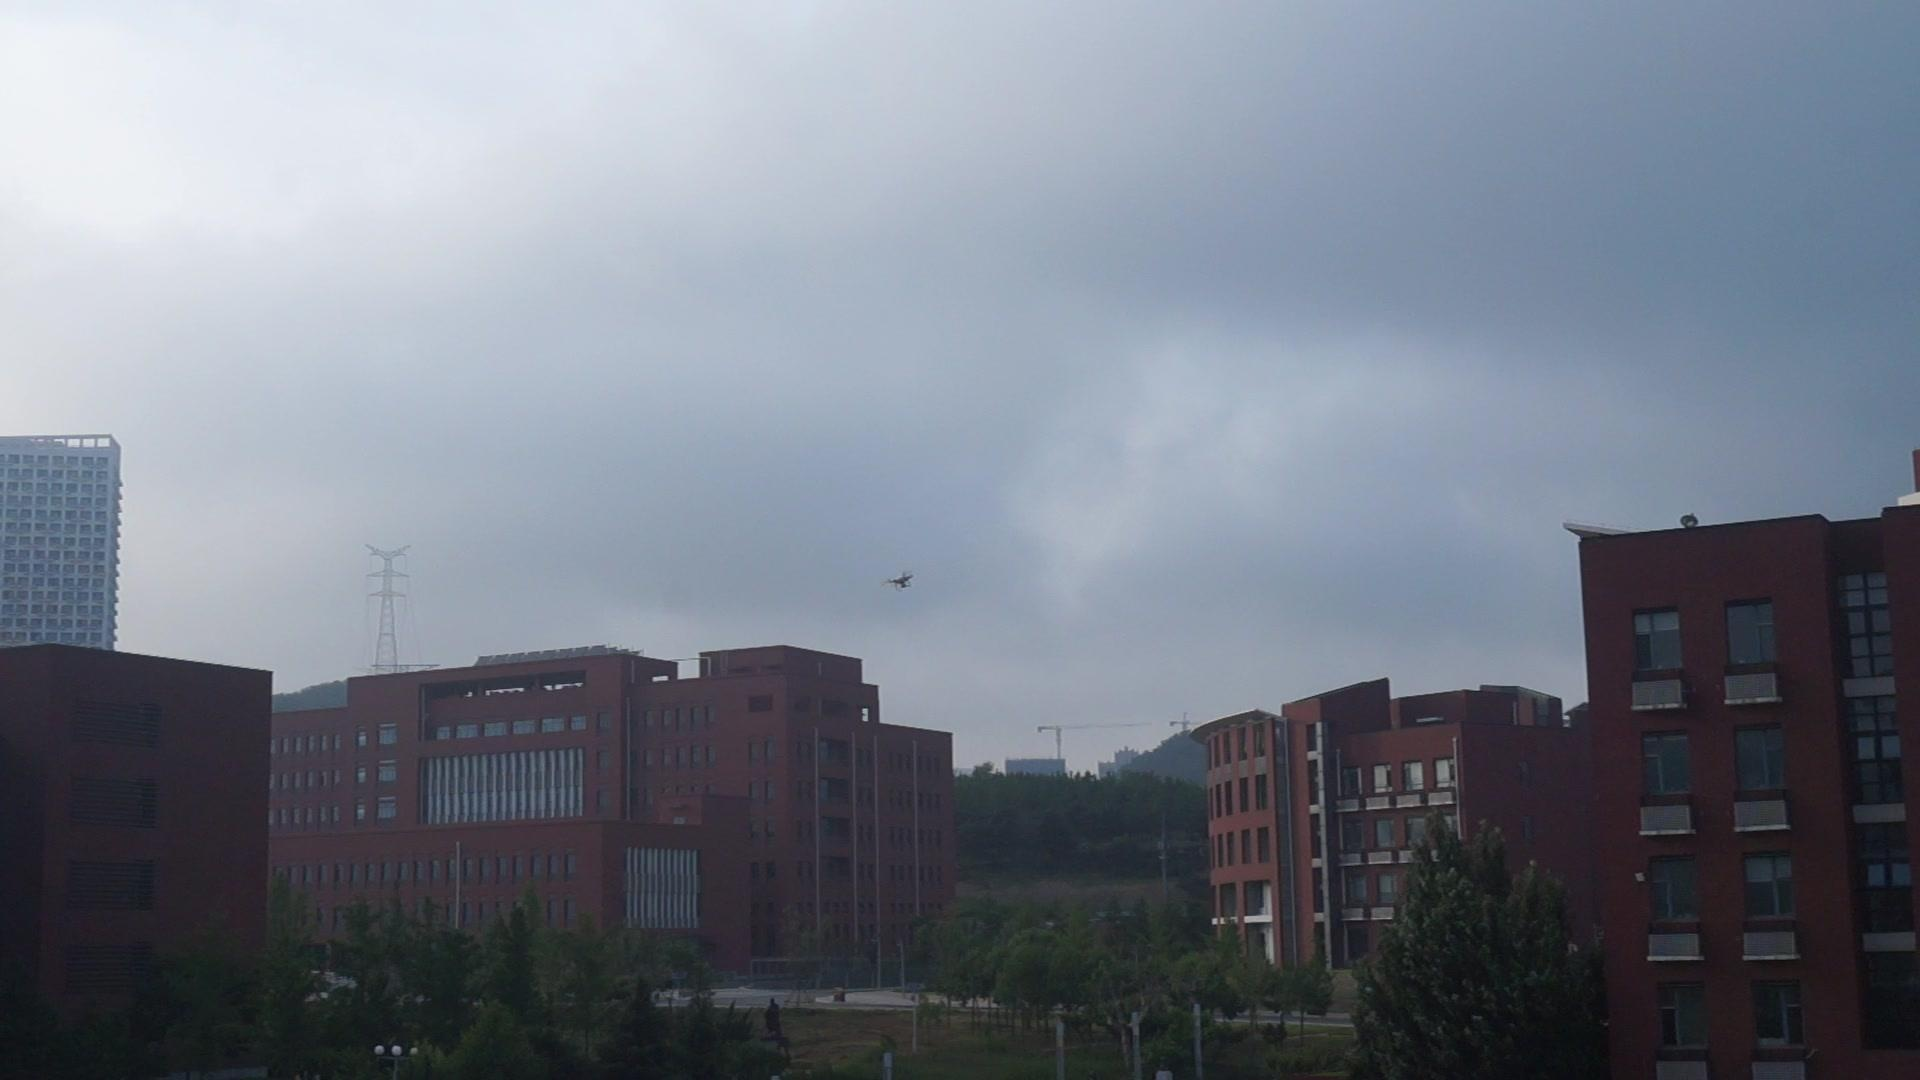UAV: (880, 570, 915, 593)
